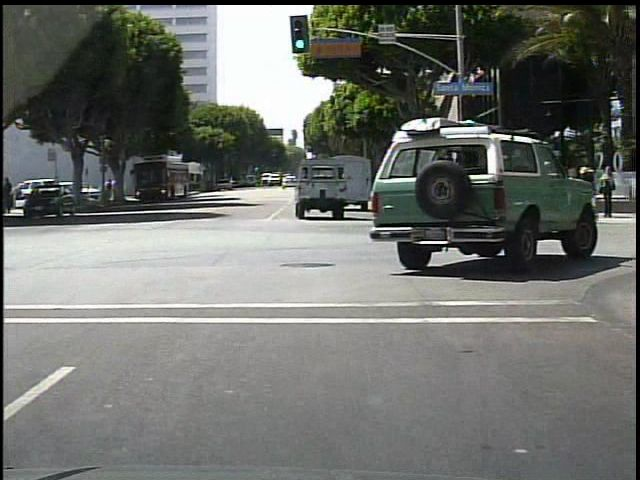person: (599, 167, 617, 218), (476, 168, 493, 217), (517, 159, 532, 214), (508, 167, 523, 216), (506, 164, 521, 213), (584, 165, 595, 223), (467, 165, 478, 216), (115, 176, 124, 204), (104, 177, 114, 200), (575, 172, 576, 221), (553, 159, 554, 179)
